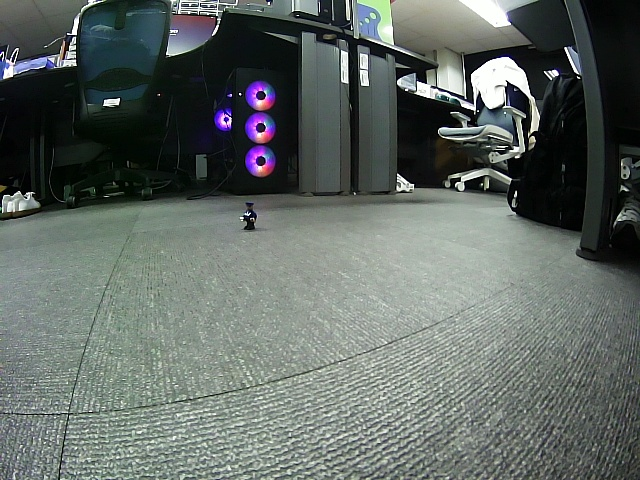person: (239, 202, 257, 231)
